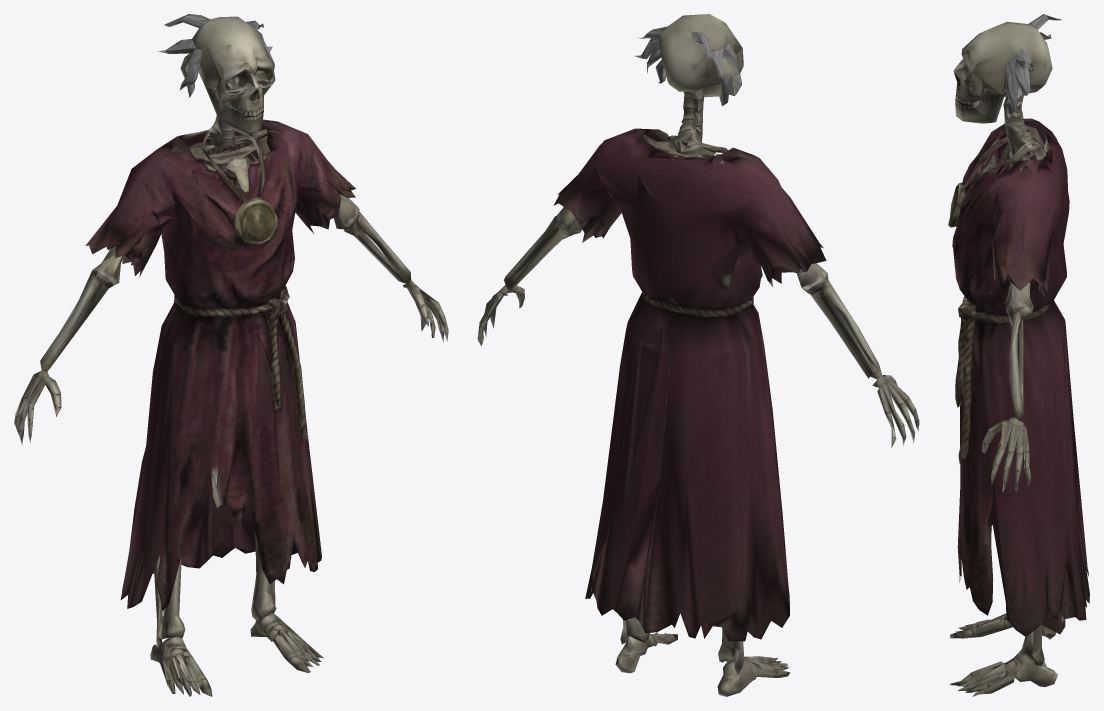
File: MW_SkelMourner.fbx
3 renders of one model, left to right at view 1: azimuth 30°, elevation 25°; view 2: azimuth 150°, elevation 25°; view 3: azimuth 270°, elevation 25°, orthographic. The views are drawn at different scales.
Parts seen in each view (by area): view 1: Mesh_0; view 2: Mesh_0; view 3: Mesh_0.
Part boxes in pixels (x1,y1,x2,y2): Mesh_0: (14,14,448,696); Mesh_0: (477,14,919,696); Mesh_0: (948,14,1089,696).
Size of the model in its own units: 131 by 190 by 38.38.
1 material, 1 textured.
